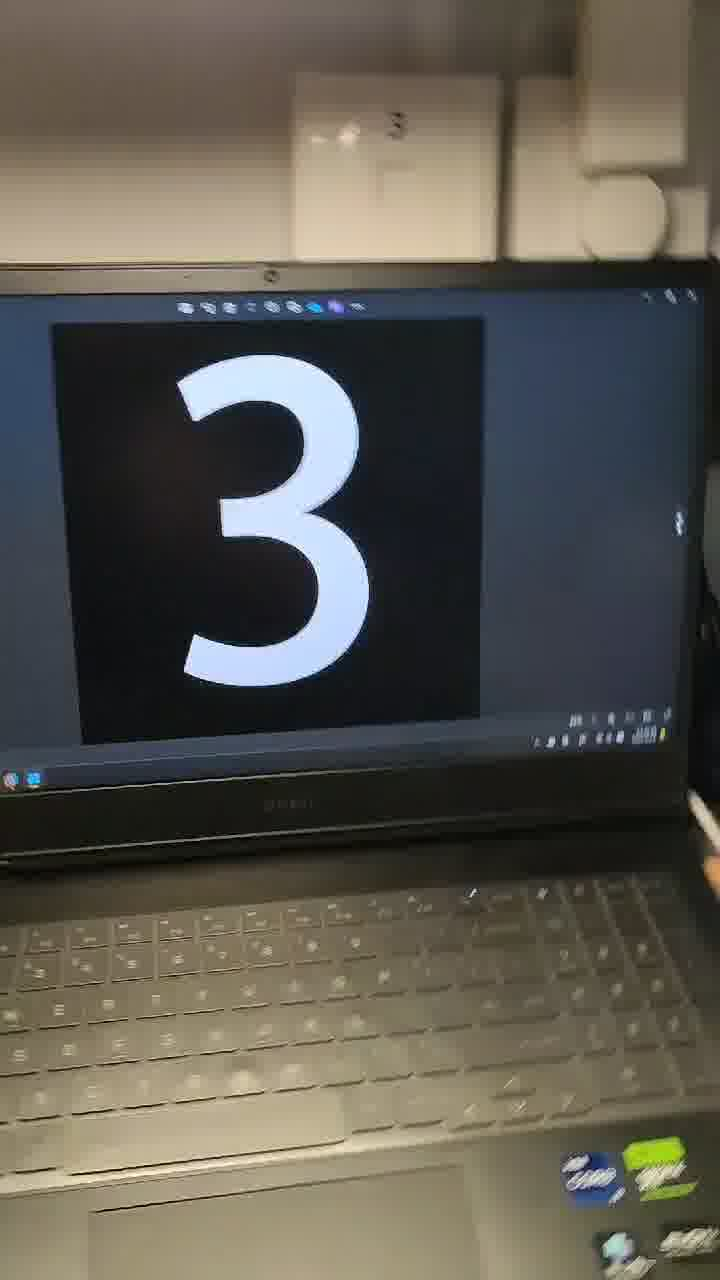three: (99, 255, 444, 734)
